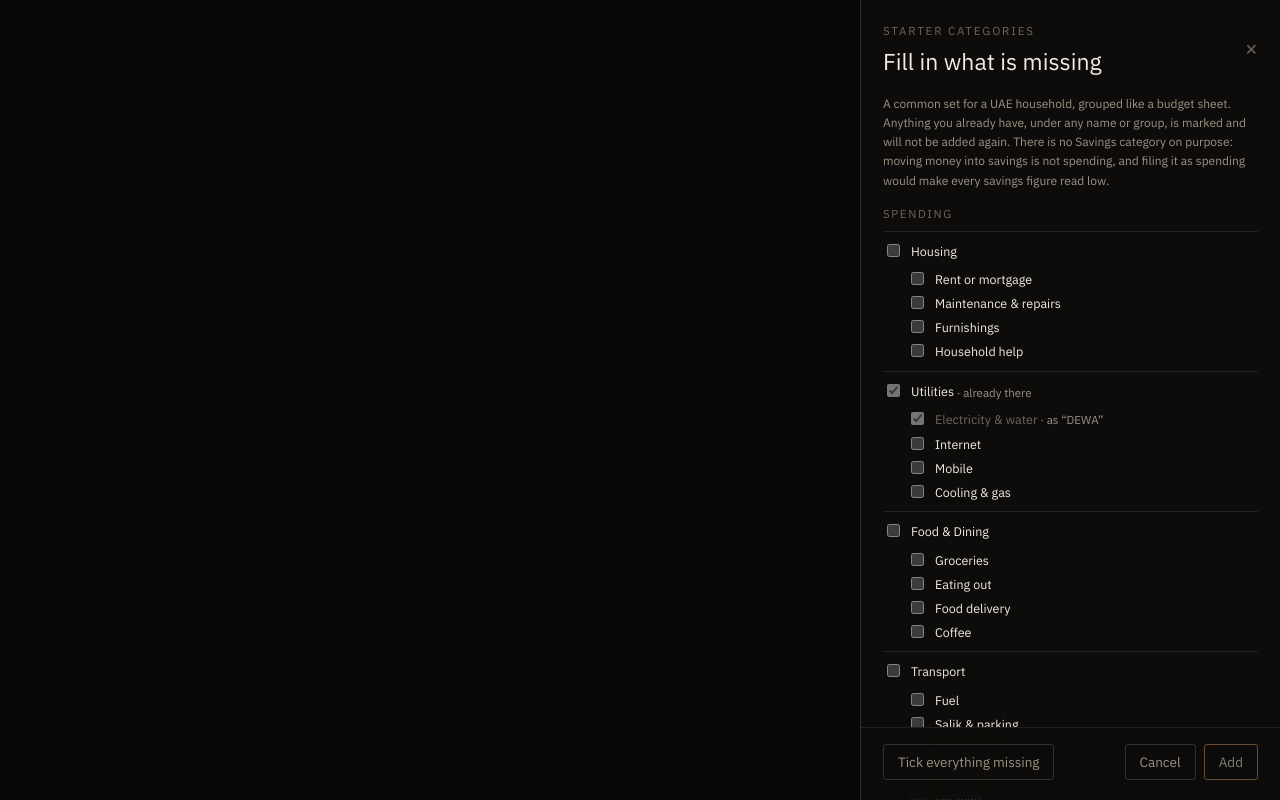
Starter categories › shows what a household already has, under its own names, and adds none of it
Expected: the text "· as “DEWA”" is shown, [1038,412,1104,427]
Expected: the button "Add" is disabled, [1204,744,1258,780]
Click the text "Internet". click: {"x": 958, "y": 444}
box: [935,435,981,453]
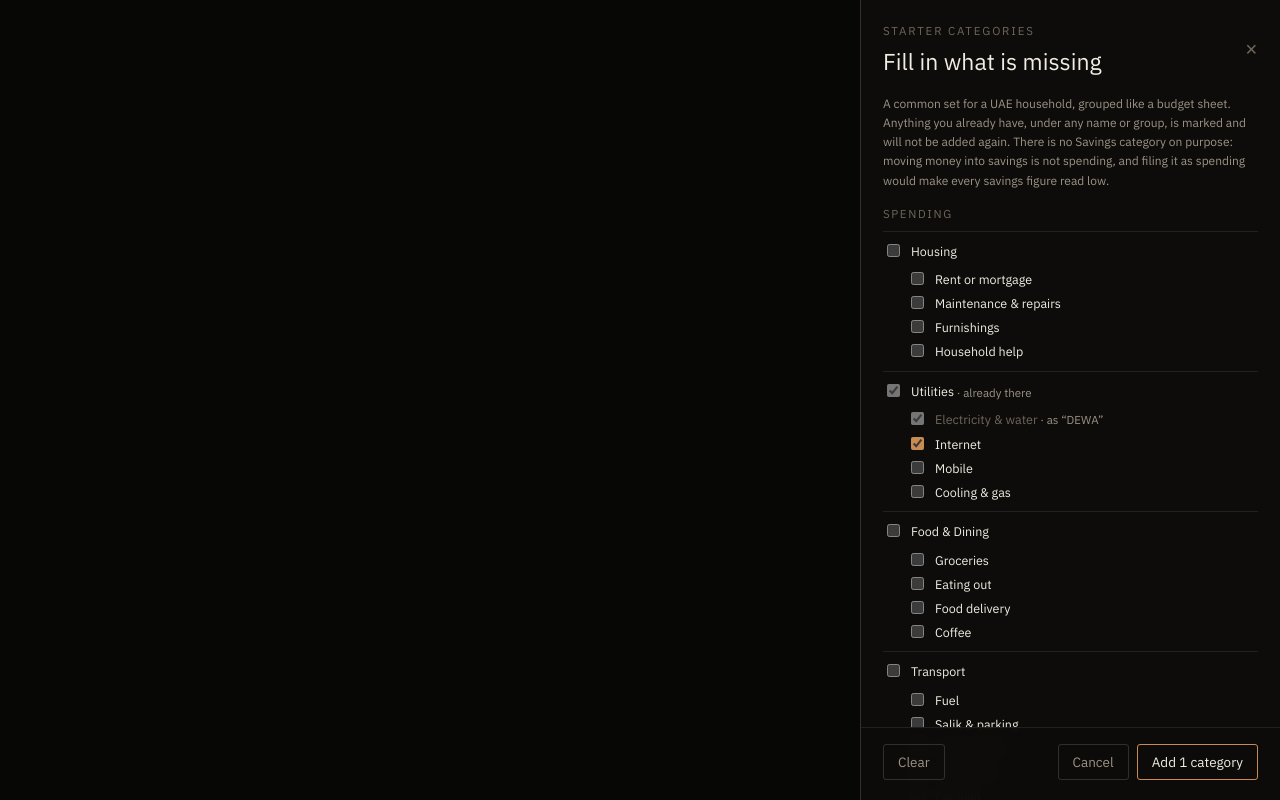
Now the button "Add 1 category" is shown, box [1137,744,1258,780]
